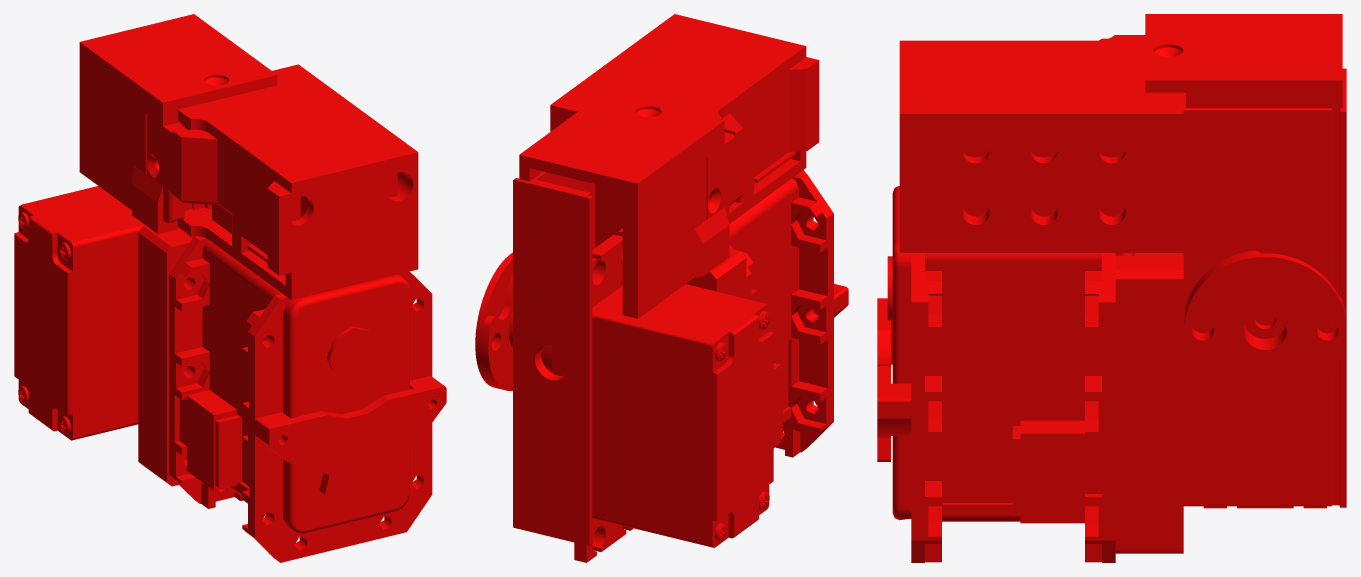
Rendered from Wrist_Roll.dae.
The picture shows the model from 3 angles, left to right: view 1: azimuth 30°, elevation 25°; view 2: azimuth 150°, elevation 25°; view 3: azimuth 270°, elevation 25°; orthographic projection. The views are drawn at different scales.
Visible parts, largest first — view 1: WristRoll; view 2: WristRoll; view 3: WristRoll.
Boxes of the visible parts, <box> form: WristRoll: <box>14,14,446,562</box>; WristRoll: <box>475,14,848,562</box>; WristRoll: <box>877,14,1346,562</box>.
Size of the model in its own units: 0.0491 by 0.0754 by 0.0689.
